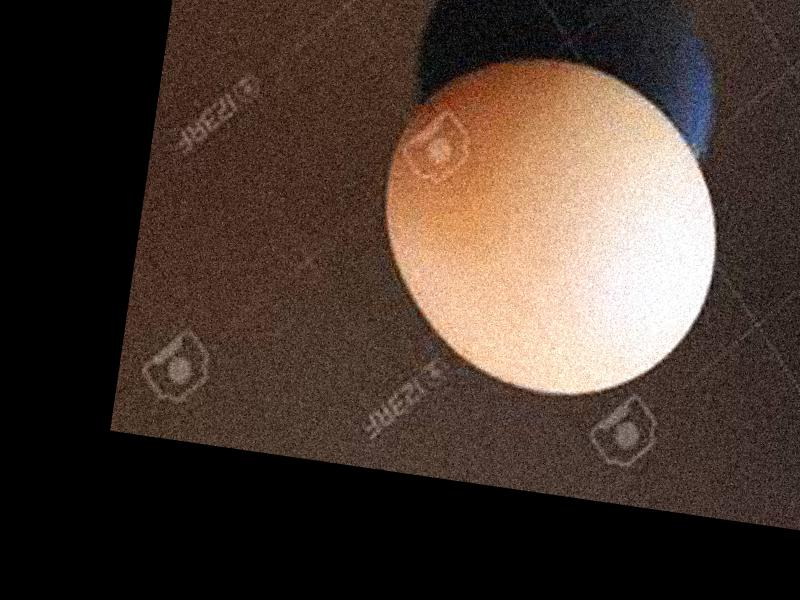Eggs: (362, 36, 741, 415)
